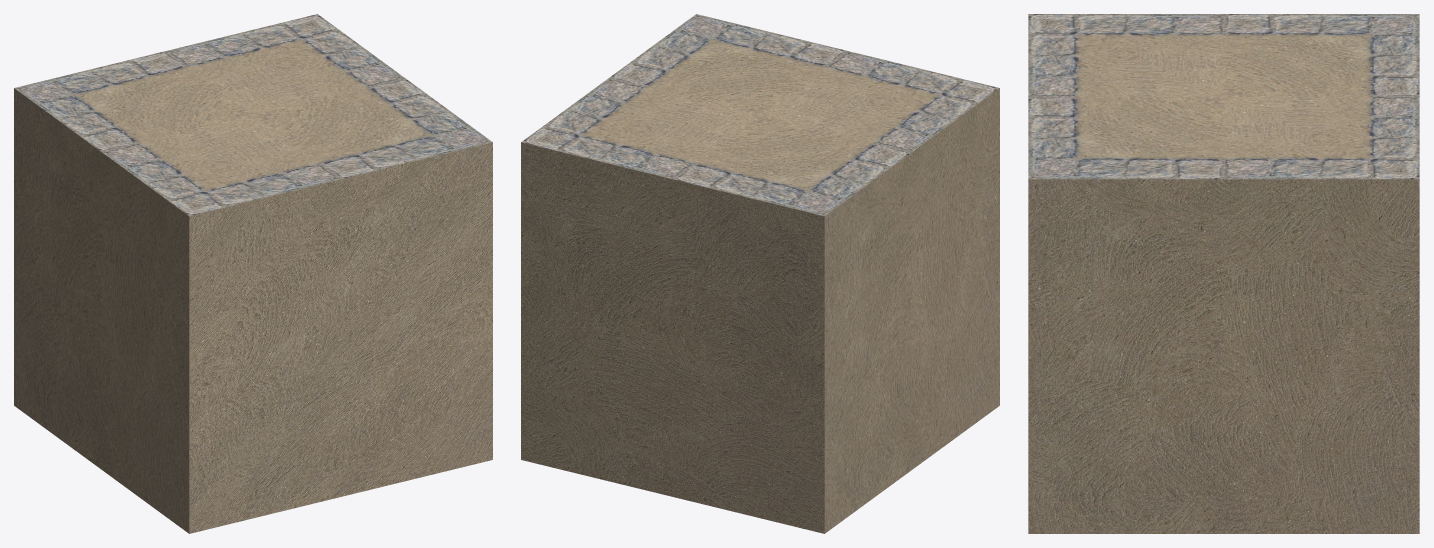
File: BlockNormalRect.fbx
3 renders of one model, left to right at view 1: azimuth 30°, elevation 25°; view 2: azimuth 150°, elevation 25°; view 3: azimuth 270°, elevation 25°, orthographic. The views are drawn at different scales.
Parts seen in each view (by area): view 1: blockNormalRect; view 2: blockNormalRect; view 3: blockNormalRect.
Boxes of the visible parts, bbox=[...] form: blockNormalRect: bbox=[14, 14, 492, 533]; blockNormalRect: bbox=[521, 14, 999, 533]; blockNormalRect: bbox=[1028, 14, 1419, 533].
Size of the model in its own units: 100 by 100 by 100.
